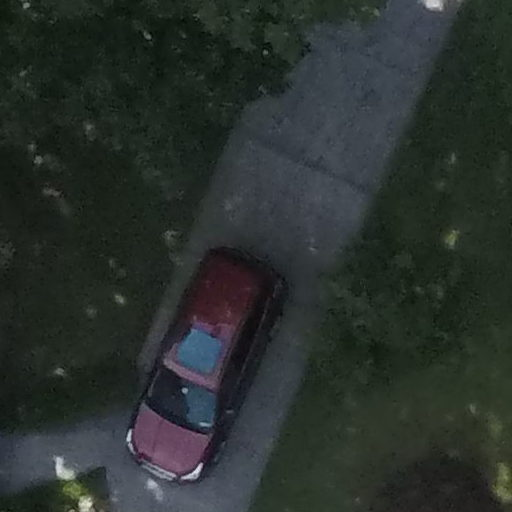car: (106, 186, 300, 490)
